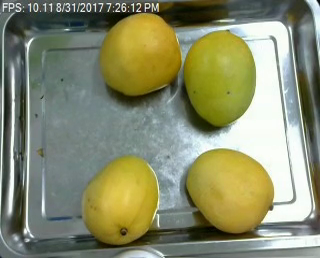Mango: (181, 28, 257, 129), (184, 148, 273, 233), (82, 157, 161, 246), (100, 12, 181, 95)
